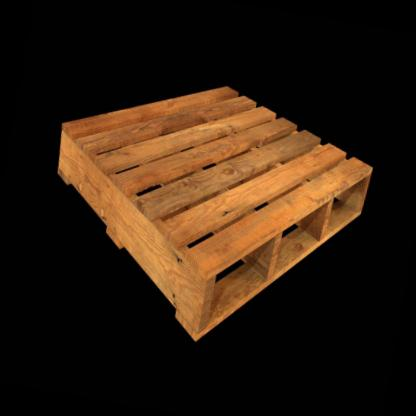BoxFace: (58, 95, 332, 343)
